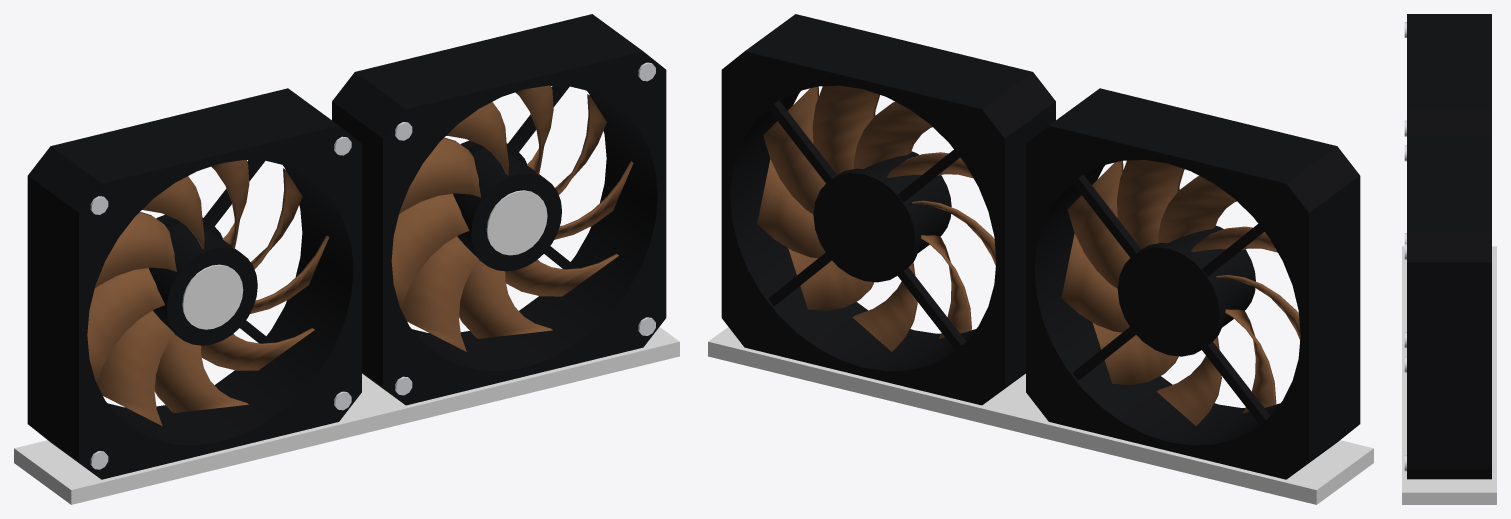
Rendered from hw_cool_dual_80mm.glb.
3 renders of one model, left to right at view 1: azimuth 30°, elevation 25°; view 2: azimuth 150°, elevation 25°; view 3: azimuth 270°, elevation 25°, orthographic. The views are drawn at different scales.
Parts seen in each view (by area): view 1: Body, Rotor_Z_1, Rotor_Z_0; view 2: Body, Rotor_Z_0, Rotor_Z_1; view 3: Body.
Boxes of the visible parts, x1,y1,x2,y2 form: Body: (14,14,679,504); Rotor_Z_1: (391,85,633,351); Rotor_Z_0: (87,160,329,425); Body: (708,14,1373,504); Rotor_Z_0: (1061,160,1300,425); Rotor_Z_1: (757,85,996,351); Body: (1402,14,1496,504).
Size of the model in its own units: 0.172 by 0.084 by 0.028.
